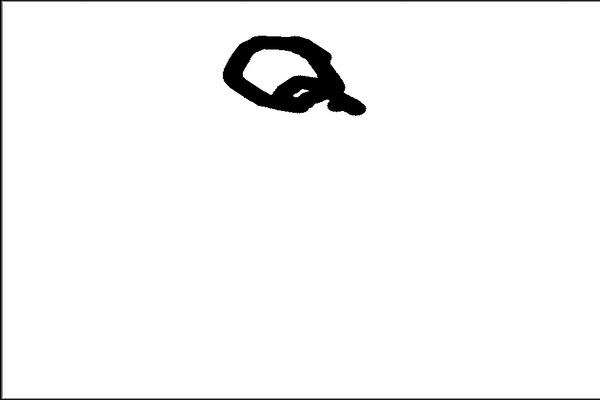Q: (217, 21, 369, 133)
